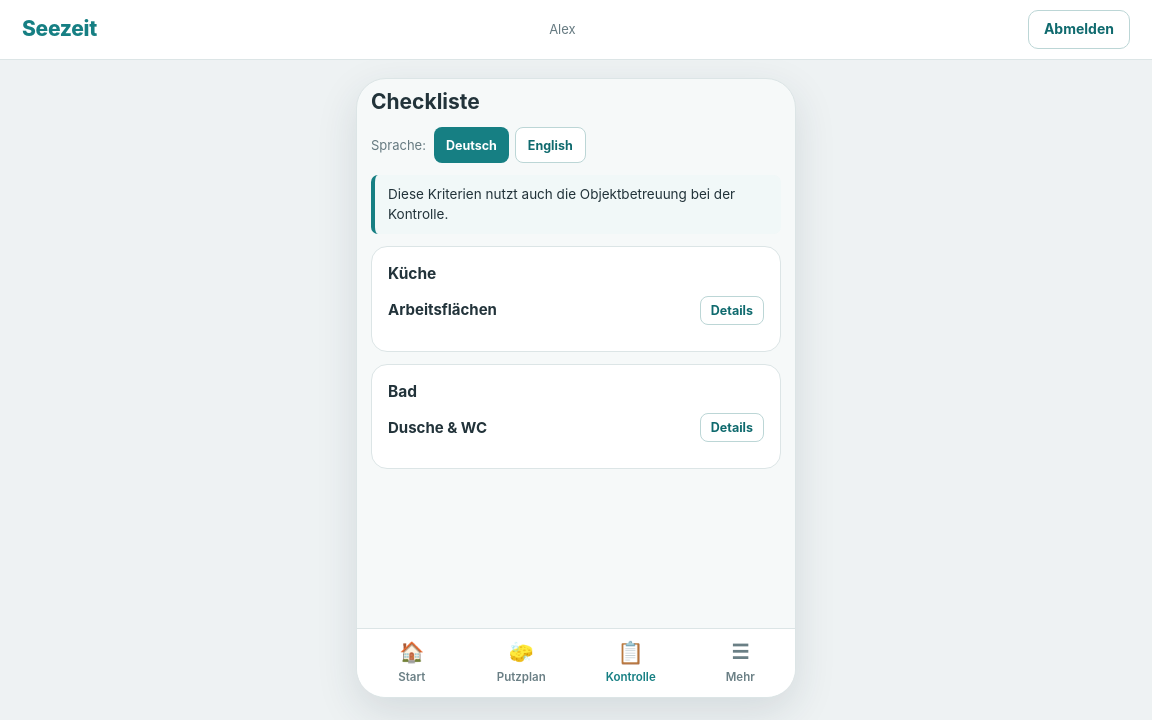
Test: shows the checklist by area, opens explanations and reloads it in English
This screenshot has width=1152, height=720.
Check: the heading "Küche" is shown, box [388,264,436,283]
Check: the heading "Bad" is shown, box [388,382,417,401]
Click the button with aria-label "Details: Arbeitsflächen".
click(732, 310)  # box [700,296,764,325]
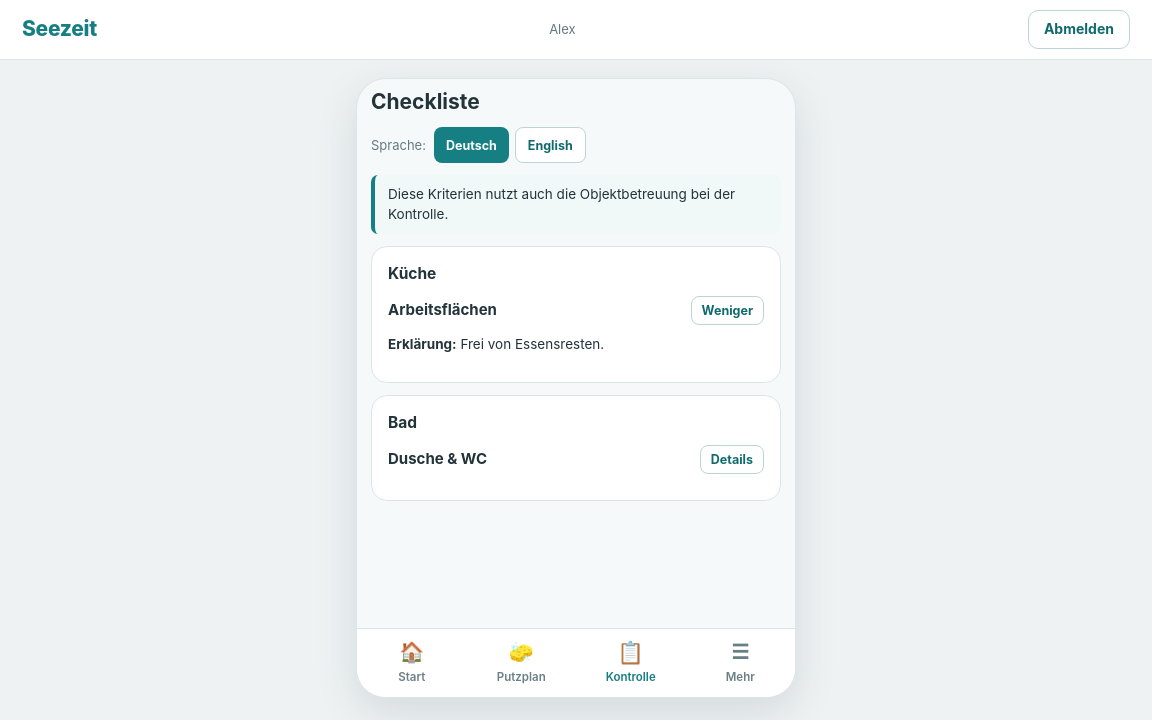
Check: the button with aria-label "Weniger: Arbeitsflächen" is expanded, box [691,296,764,325]
Click the button "English".
click(550, 145)  # box [515,127,586,163]
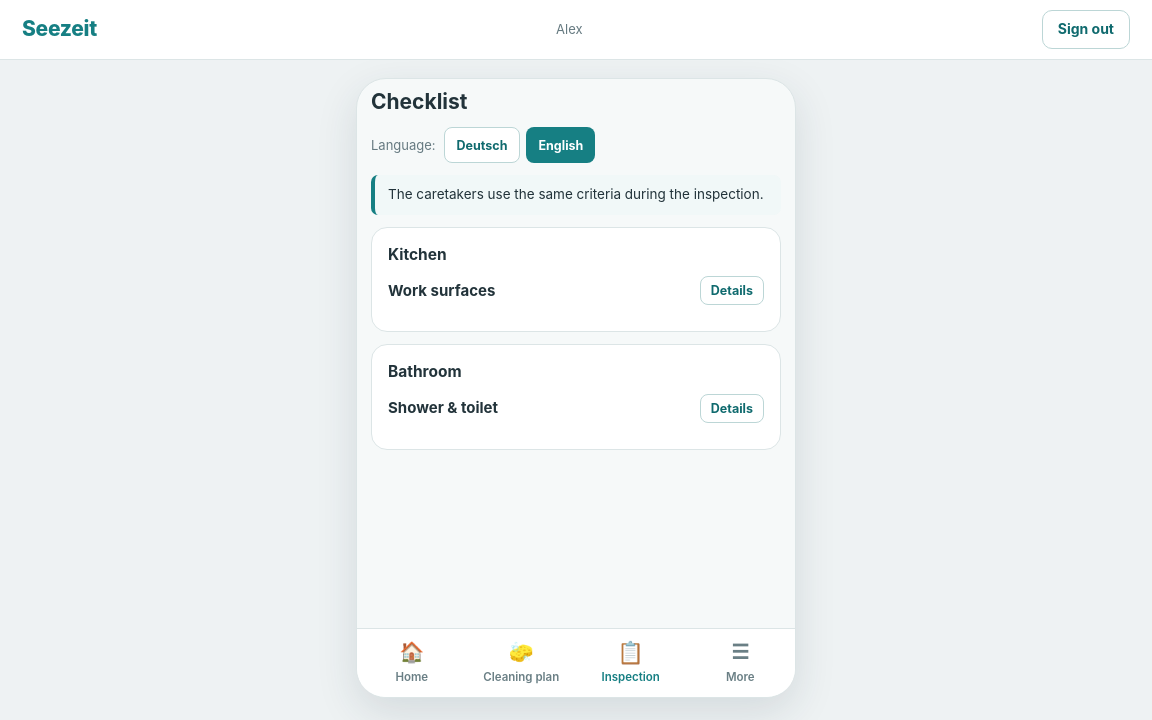
Check: the heading "Kitchen" is shown, box [388,245,447,264]
Check: the button with aria-label "Details: Work surfaces" is shown, box [700,276,764,305]
